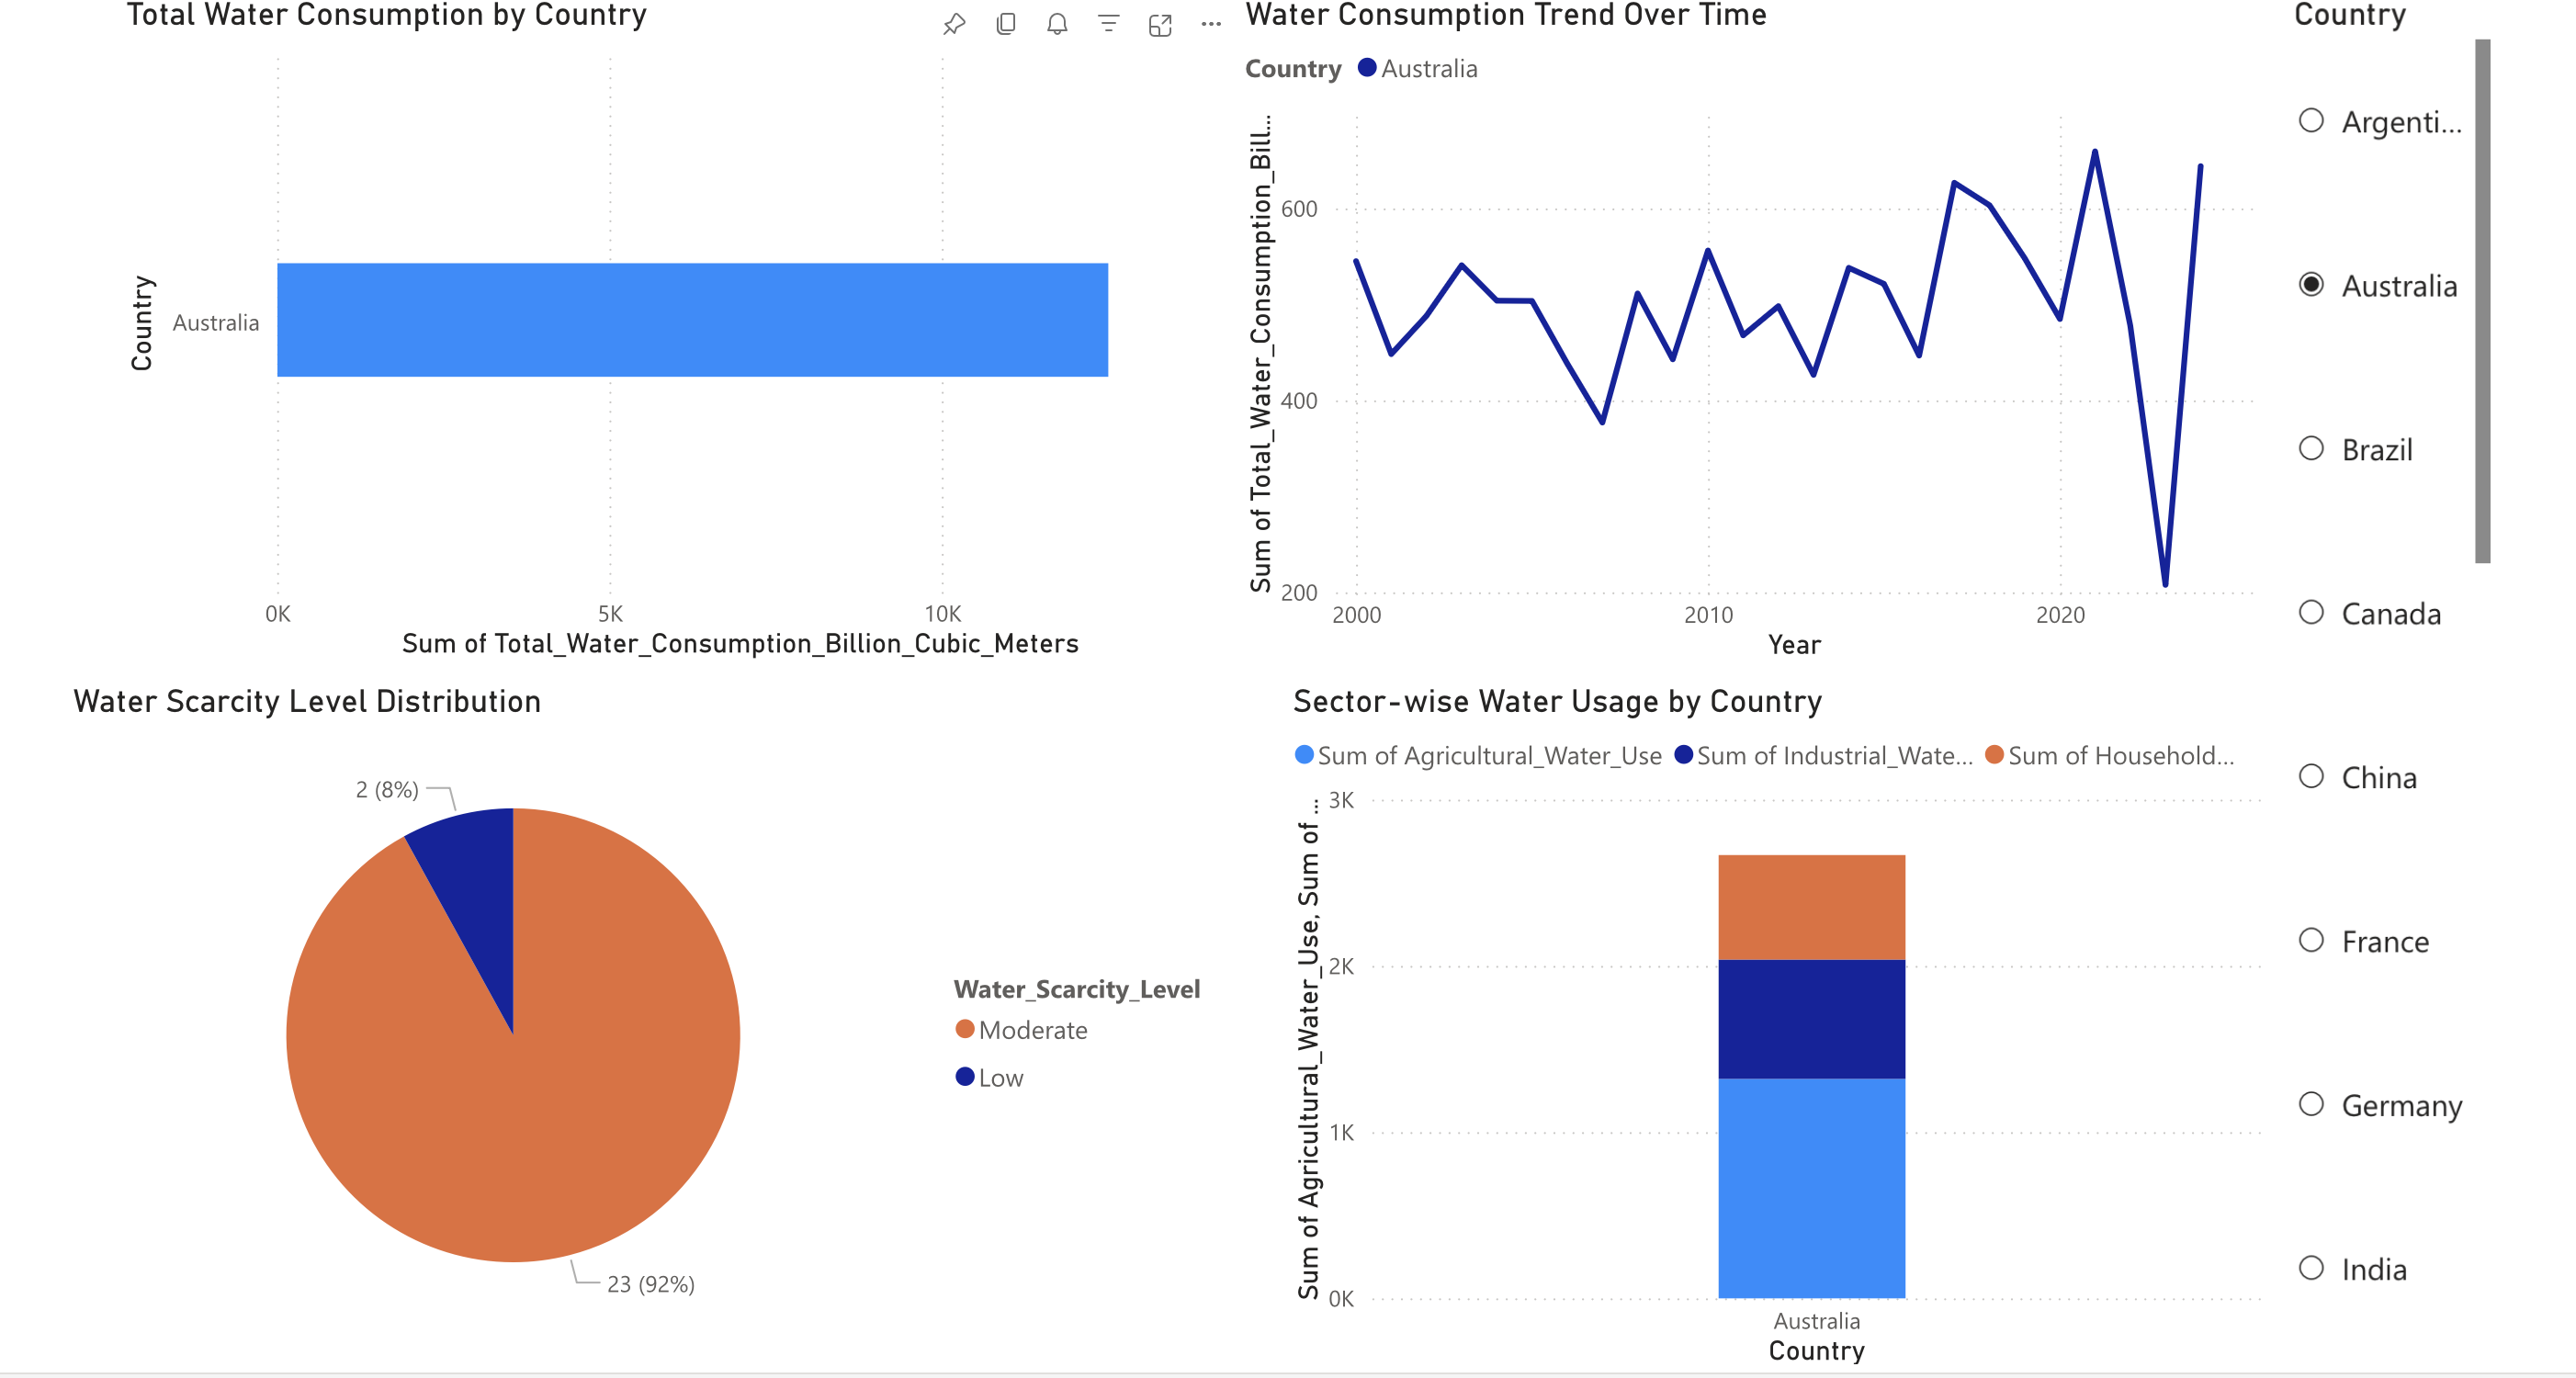

The dashboard page shown, as its layout file describes it:
{"tool":"powerbi","page":{"name":"Page 1","canvas":[1280,720],"ordinal":0},"visuals":[{"type":"pieChart","title":"Water Scarcity Level Distribution","fields":{"Category":["WaterConsumption.Water_Scarcity_Level"],"Y":["CountNonNull(WaterConsumption.Country)"]},"box":[0,360.5,615,350.6],"z":2},{"type":"lineChart","title":"Water Consumption Trend Over Time","fields":{"Category":["WaterConsumption.Year"],"Y":["Sum(WaterConsumption.Total_Water_Consumption_Billion_Cubic_Meters)"],"Series":["WaterConsumption.Country"]},"box":[615,0,542.7,350.6],"z":4},{"type":"columnChart","title":"Sector-wise Water Usage by Country","fields":{"Category":["WaterConsumption.Country"],"Y":["Sum(WaterConsumption.Agricultural_Water_Use)","Sum(WaterConsumption.Industrial_Water_Use)","Sum(WaterConsumption.Household_Water_Use)"]},"box":[639.8,360.5,518,360.5],"z":5},{"type":"clusteredBarChart","title":"Total Water Consumption by Country","fields":{"Category":["WaterConsumption.Country"],"Y":["Sum(WaterConsumption.Total_Water_Consumption_Billion_Cubic_Meters)"]},"box":[27.7,0,587.3,350.6],"z":6},{"type":"listSlicer","fields":{"Values":["WaterConsumption.Country"]},"box":[1165.7,0,113.9,720],"z":7}]}

Visuals, with their boxes on the page's 1280x720 design canvas (x1, y1, x2, y2). These are canvas units, not pixel positions in the 2576x1378 screenshot, which may show the page scaled, cropped or inside an application window:
"Water Scarcity Level Distribution" pieChart: 0/360/615/711
"Water Consumption Trend Over Time" lineChart: 615/0/1158/351
"Sector-wise Water Usage by Country" columnChart: 640/360/1158/721
"Total Water Consumption by Country" clusteredBarChart: 28/0/615/351
listSlicer - WaterConsumption.Country: 1166/0/1280/720
